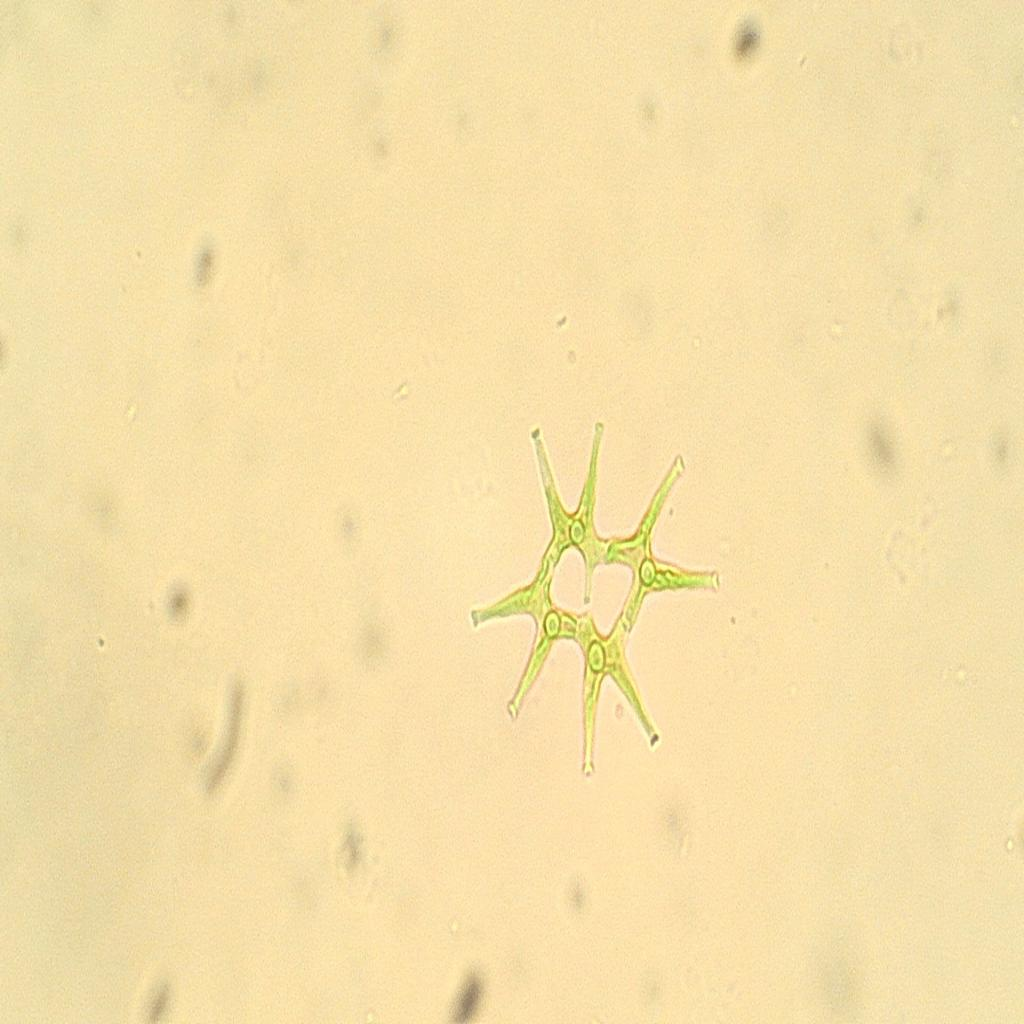Pediastrum_CF: (443, 412, 740, 807)
